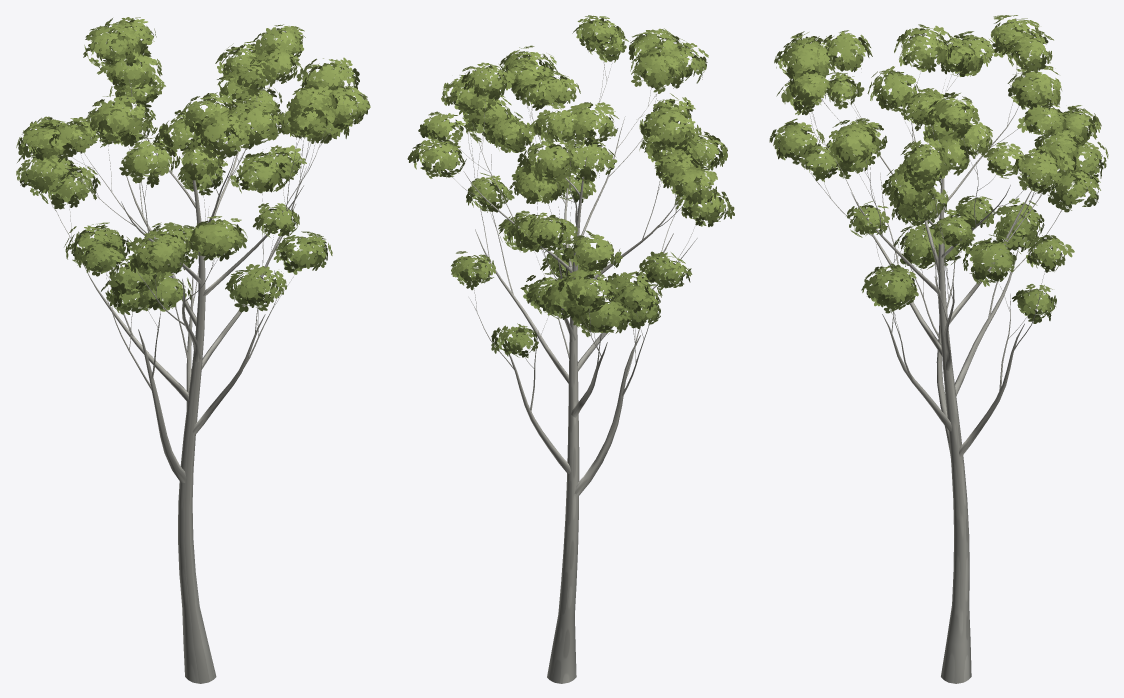
Rendered from tree.gltf.
3 renders of one model, left to right at view 1: azimuth 30°, elevation 25°; view 2: azimuth 150°, elevation 25°; view 3: azimuth 270°, elevation 25°, orthographic. The views are drawn at different scales.
Parts seen in each view (by area): view 1: Tree_LOD0; view 2: Tree_LOD0; view 3: Tree_LOD0.
Boxes of the visible parts, x1,y1,x2,y2 form: Tree_LOD0: (16,17,370,683); Tree_LOD0: (407,15,734,683); Tree_LOD0: (769,15,1108,683).
Bounding box in the file's own units: 12.43 × 24.31 × 11.95.
Materials: 2 (2 with a texture image).
